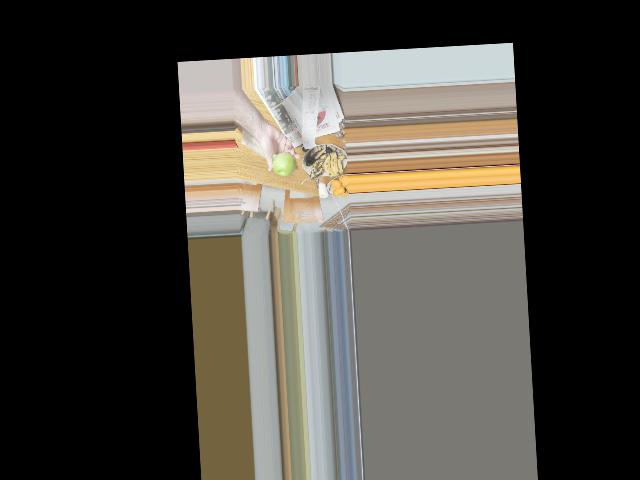apple: (272, 150, 296, 176)
